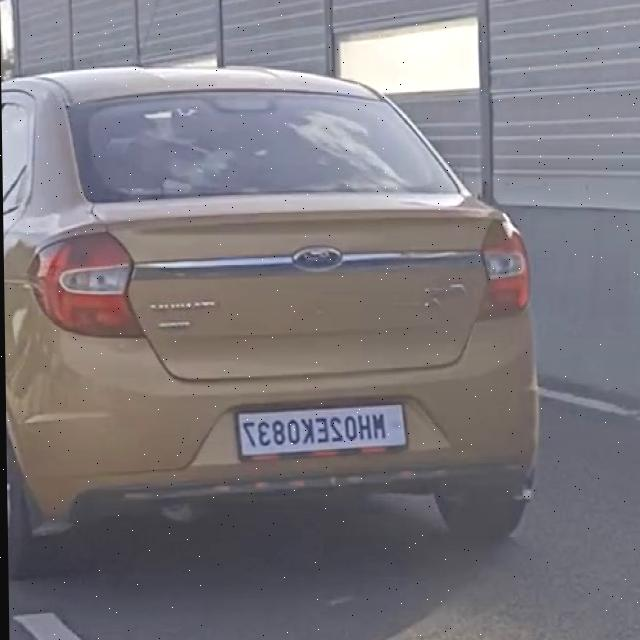plate: (235, 403, 403, 460)
